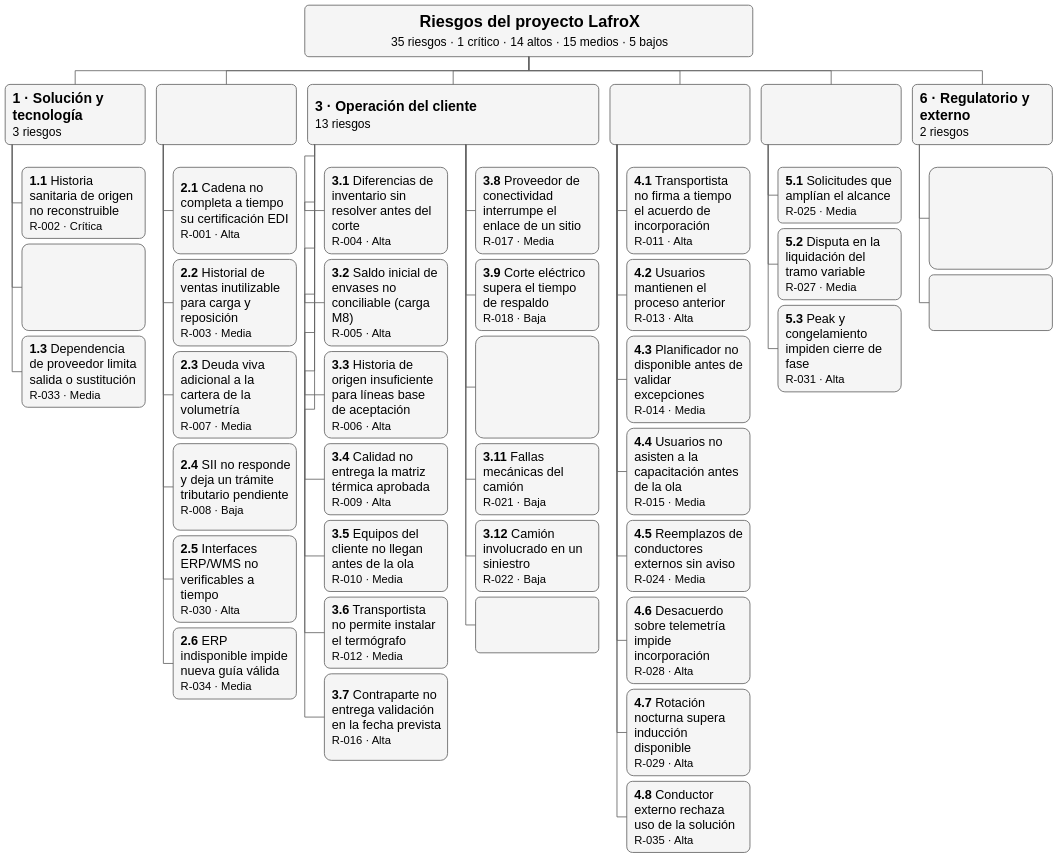
Image size: 1058x858. Some labels were removed from this diagram. Each missing label, with the box of its shape:
1.2 Cambio de soporte exige adecuación extraordinaria R-032 · Alta: (21, 243, 145, 331)
2 · Integración y legado 6 riesgos: (156, 84, 297, 145)
3.10 Cliente no autoriza intervención urgente en congelamiento R-020 · Media: (475, 336, 599, 438)
3.13 Asalto a camión R-023 · Baja: (475, 597, 599, 653)
4 · Personas y adopción 8 riesgos: (609, 84, 750, 145)
5 · Contrato y licitación 3 riesgos: (761, 84, 901, 145)
6.1 Falta aprobación del cliente para datos en regiones de nube R-019 · Media: (929, 167, 1053, 270)
6.2 Cambios normativos R-026 · Media: (929, 274, 1053, 331)
